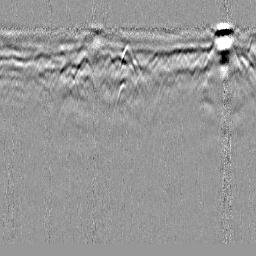cavity: (118, 40, 139, 68)
